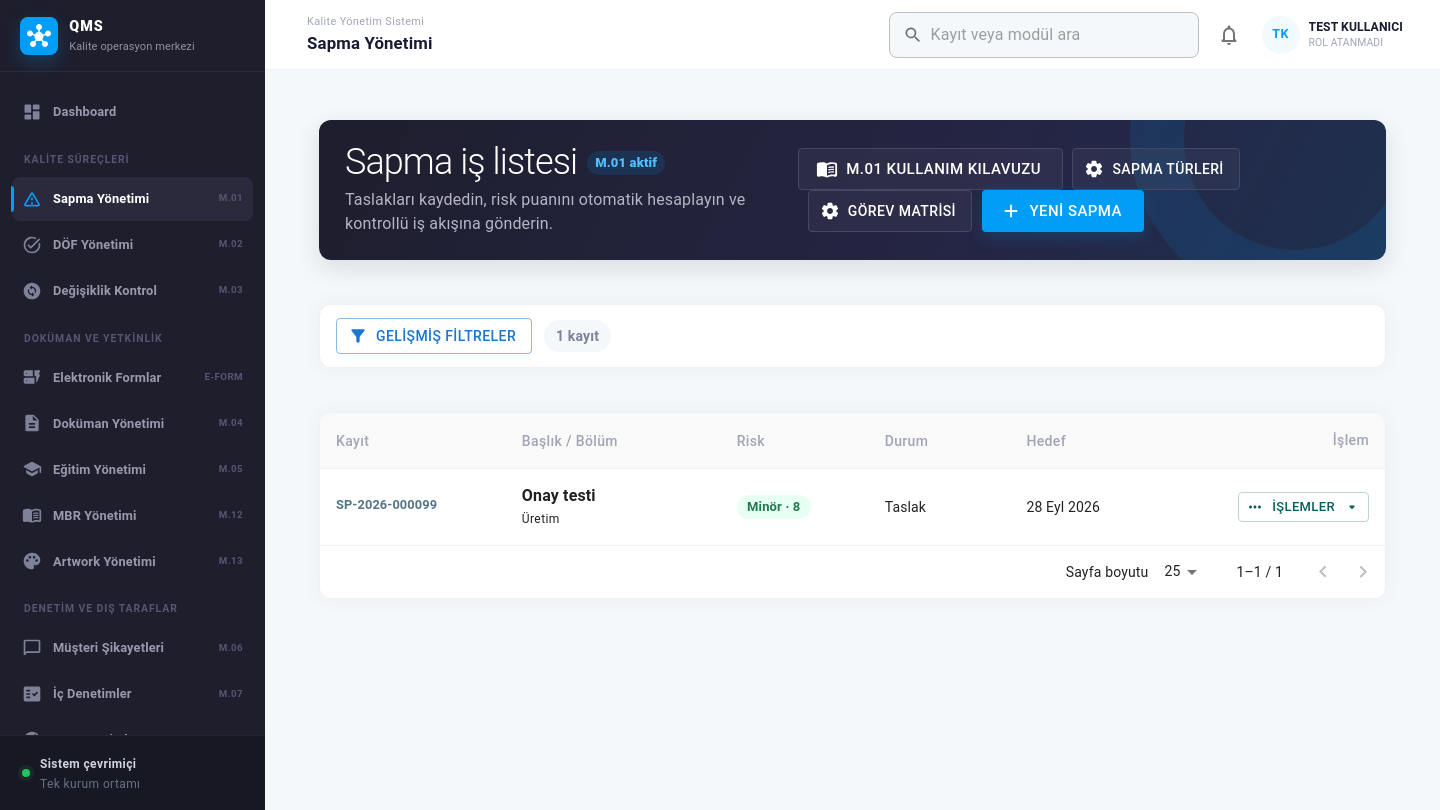
Test: App › confirms a draft row action and shows result feedback
The image size is (1440, 810).
Click the button "İşlemler".
click(1304, 507)  # box [1238,492,1369,522]
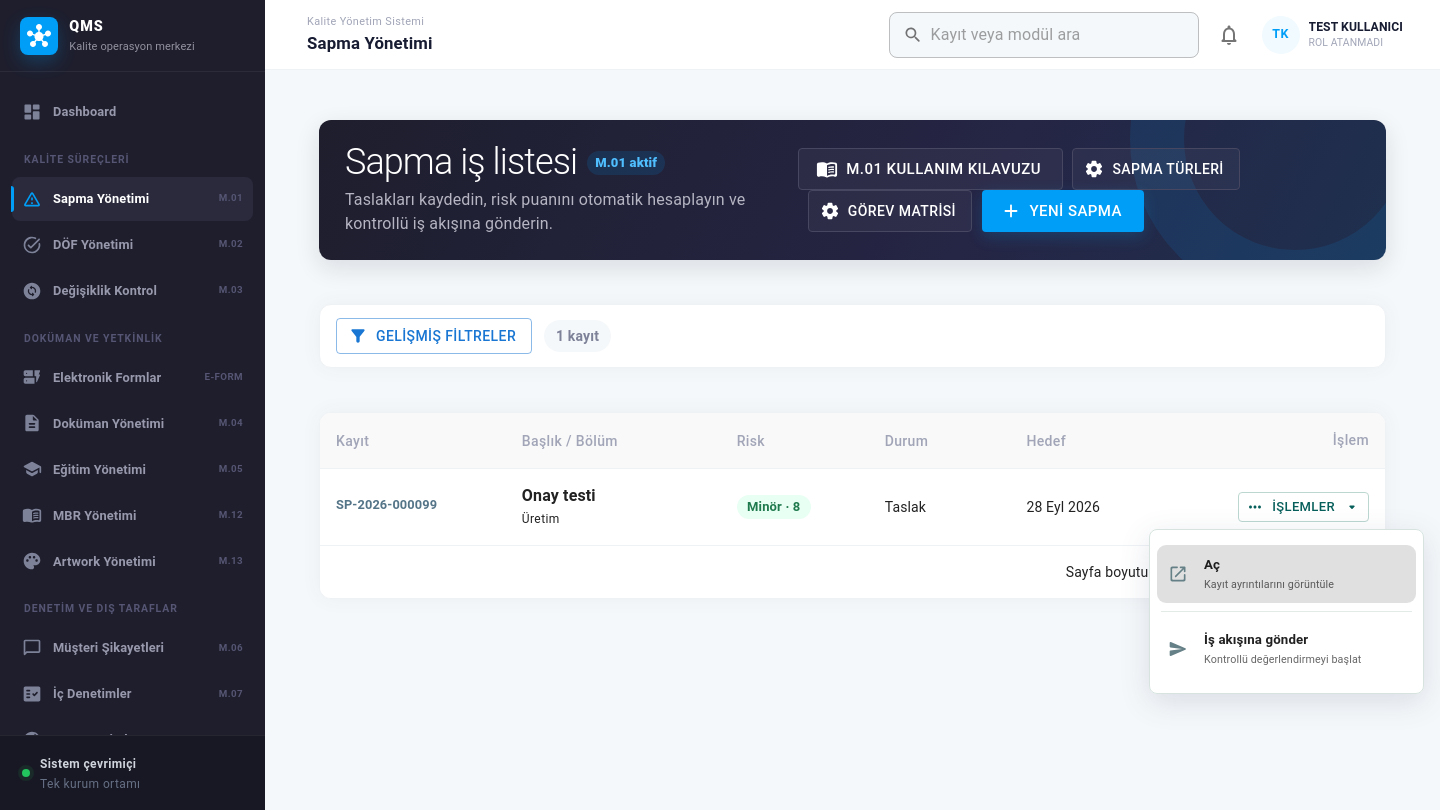
Click the menu item "İş akışına gönder Kontrollü değerlendirmeyi başlat".
click(1265, 649)  # box [1168,632,1362,666]
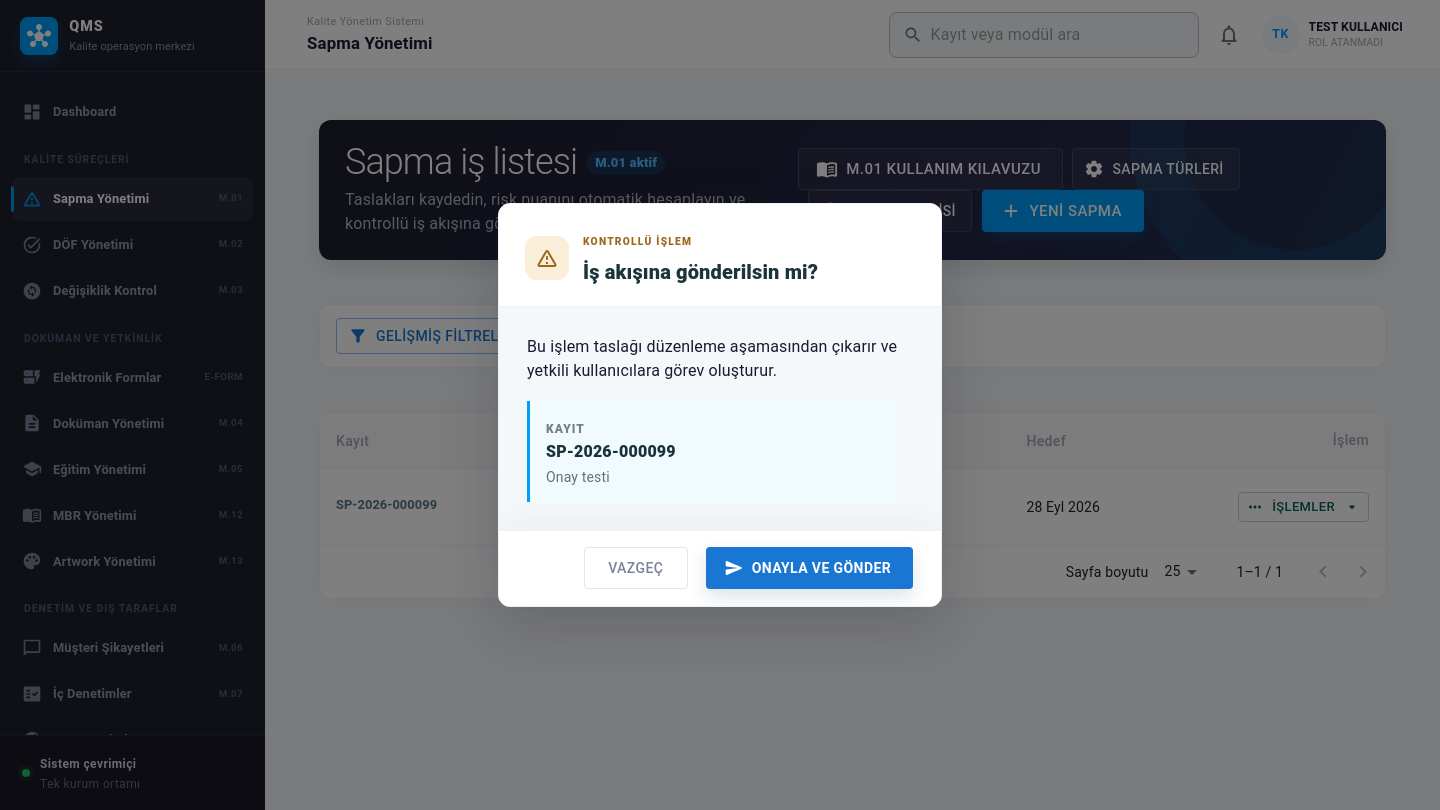
Now the heading "İş akışına gönderilsin mi?" is shown, box [583,256,818,288]
Click the button "Onayla ve gönder".
click(809, 568)  # box [706,547,913,589]
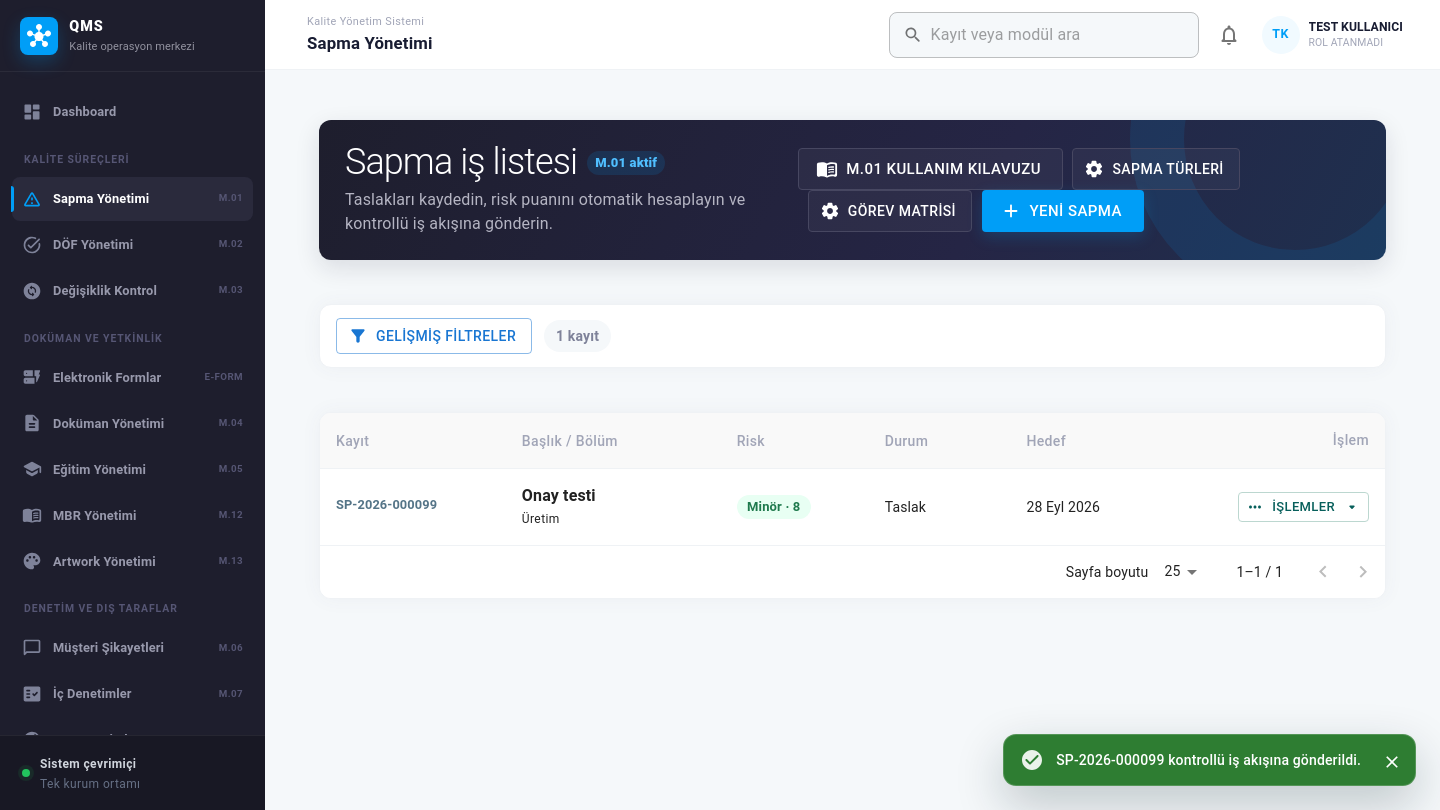
Now the text "SP-2026-000099 kontrollü iş akışına gönderildi." is shown, box [1056,752,1361,768]
